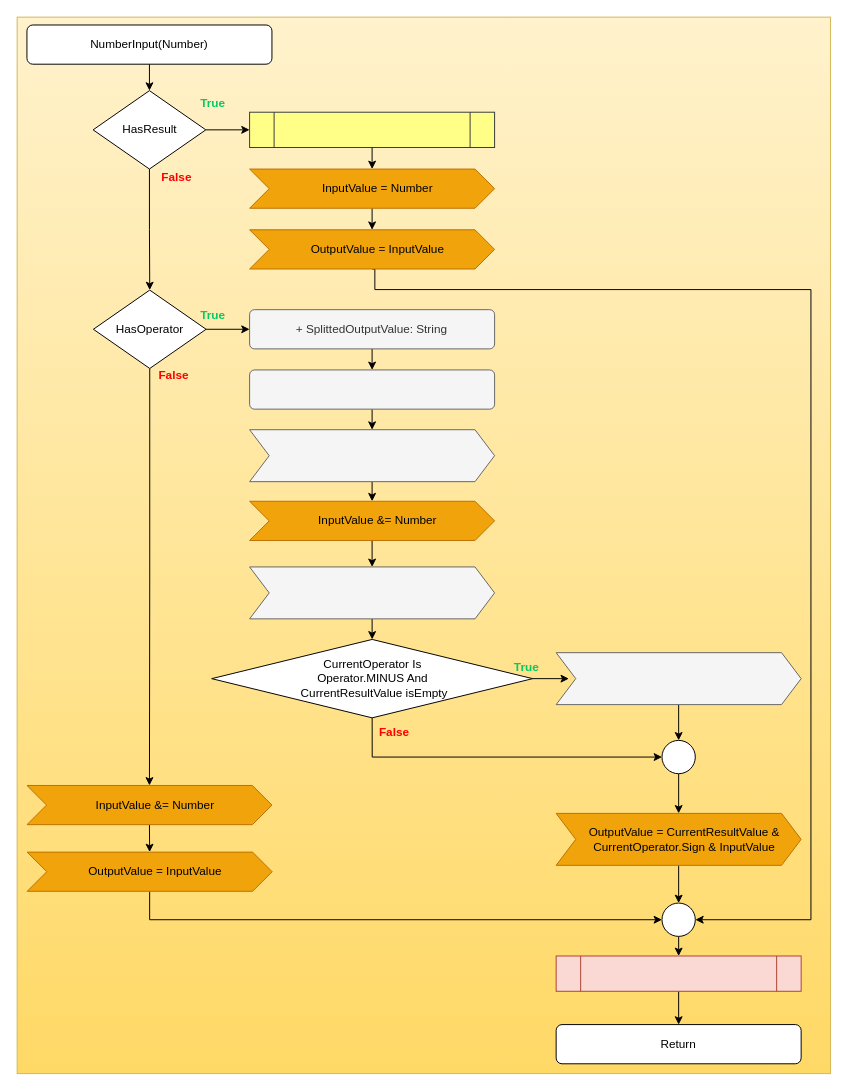
Some shapes in this 848 by 1091 pixel diagram are drawn without their labels. The box of each missing label's shape, as (x1, y1, x2, y2) in pixels:
+ CurrentResultValue: String: (249, 369, 495, 409)
CurrentResultValue = Operator.MINUS.Sign & SplittedOutputValue[ SecondItem ]: (555, 652, 801, 705)
CurrentResultValue = SplittedOutputValue[ FirstItem ]: (249, 566, 495, 619)
Display(OutputValue): (555, 955, 801, 991)
ResetValues(): (249, 111, 495, 147)
SplittedOutputValue = OutputValue.Split(CurrentOperator.Sign): (249, 429, 495, 482)
